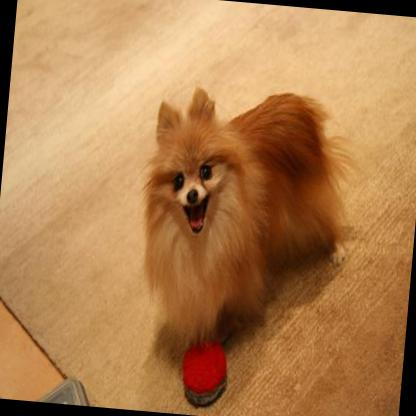Pomeranian: (134, 78, 358, 356)
